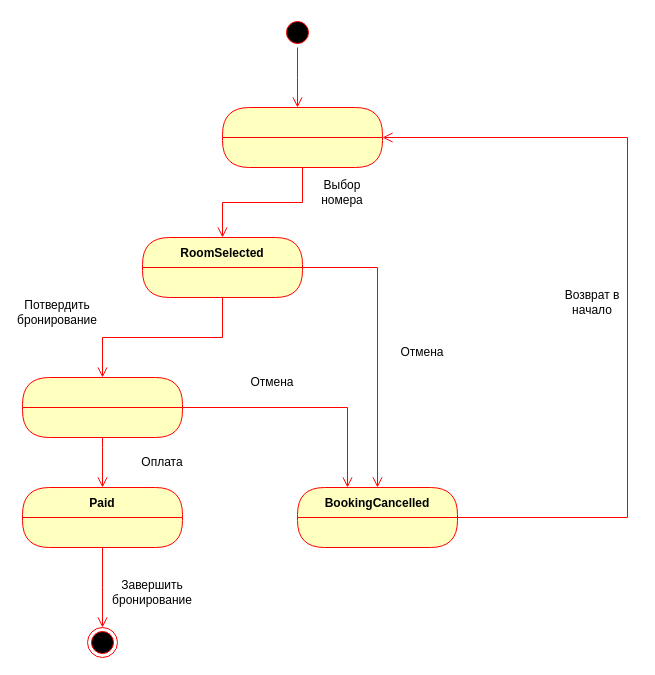
Image size: 655x675. Some labels were removed from this diagram. Each missing label, with the centre of its shape:
"BookingConfirmed" belongs at (x=102, y=407).
"Idle" belongs at (x=302, y=137).
